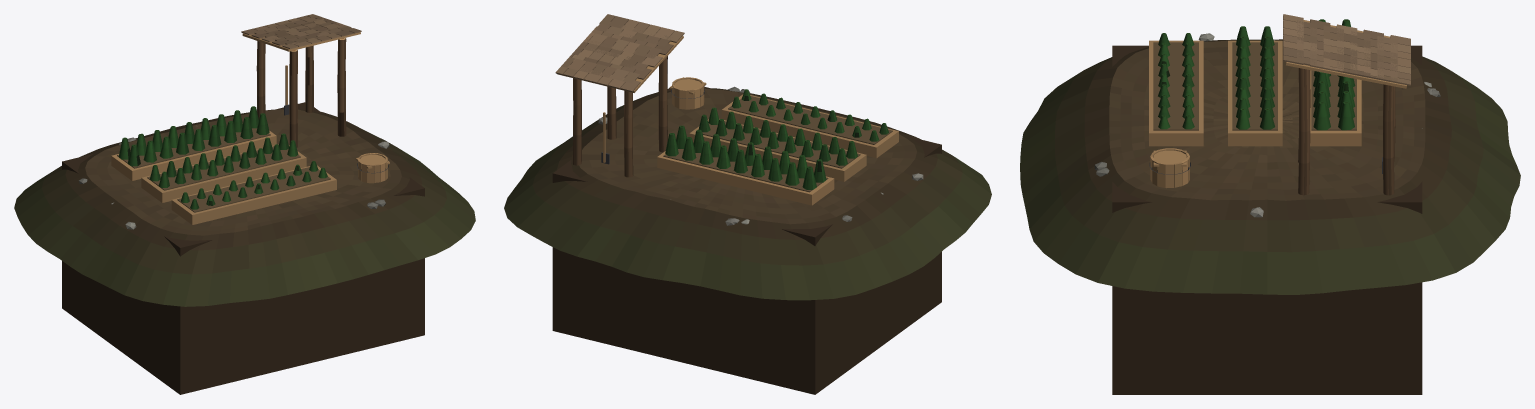
The model's file is ormanci.glb.
3 renders of one model, left to right at view 1: azimuth 30°, elevation 25°; view 2: azimuth 150°, elevation 25°; view 3: azimuth 270°, elevation 25°, orthographic. The views are drawn at different scales.
Visible parts, largest first — view 1: stone-ground-002, stone-plinth-001, plank-bed-001, wood-seedlings-003, plank-bed-002, shingle-001, wood-seedlings-002, plank-bed-003, wood-seedlings-001, log-003, wood-004, log-001 (+2 smaller); view 2: stone-ground-002, stone-plinth-001, shingle-001, wood-seedlings-003, plank-bed-001, plank-bed-003, wood-seedlings-002, plank-bed-002, wood-seedlings-001, wood-004, log-001, log-004 (+2 smaller); view 3: stone-ground-002, stone-plinth-001, shingle-001, plank-bed-001, plank-bed-002, wood-seedlings-002, plank-bed-003, wood-seedlings-001, wood-seedlings-003, wood-004, log-003, log-004 (+1 smaller).
Part boxes in pixels (<box>): stone-ground-002: <box>14,109,475,306</box>; stone-plinth-001: <box>62,102,424,394</box>; plank-bed-001: <box>171,165,336,224</box>; wood-seedlings-003: <box>118,106,269,166</box>; plank-bed-002: <box>141,144,306,202</box>; shingle-001: <box>241,14,361,51</box>; wood-seedlings-002: <box>150,133,298,187</box>; plank-bed-003: <box>111,128,276,180</box>; wood-seedlings-001: <box>181,161,327,209</box>; log-003: <box>337,38,346,136</box>; wood-004: <box>355,153,389,183</box>; log-001: <box>289,49,297,147</box>; stone-ground-002: <box>504,88,991,300</box>; stone-plinth-001: <box>552,86,941,394</box>; shingle-001: <box>555,14,684,92</box>; wood-seedlings-003: <box>665,125,826,189</box>; plank-bed-001: <box>721,94,898,158</box>; plank-bed-003: <box>657,149,834,205</box>; wood-seedlings-002: <box>698,107,857,165</box>; plank-bed-002: <box>689,119,866,181</box>; wood-seedlings-001: <box>731,89,888,141</box>; wood-004: <box>669,77,706,109</box>; log-001: <box>658,56,667,152</box>; log-004: <box>572,78,581,165</box>; stone-ground-002: <box>1020,39,1520,294</box>; stone-plinth-001: <box>1112,45,1422,394</box>; shingle-001: <box>1283,14,1410,88</box>; plank-bed-001: <box>1149,40,1203,146</box>; plank-bed-002: <box>1228,40,1282,146</box>; wood-seedlings-002: <box>1235,26,1274,129</box>; plank-bed-003: <box>1310,70,1361,146</box>; wood-seedlings-001: <box>1158,33,1194,129</box>; wood-seedlings-003: <box>1313,19,1355,130</box>; wood-004: <box>1149,148,1190,188</box>; log-003: <box>1298,68,1310,195</box>; log-004: <box>1383,84,1394,195</box>.
Size of the model in its own units: 9.28 by 6.11 by 8.24.
